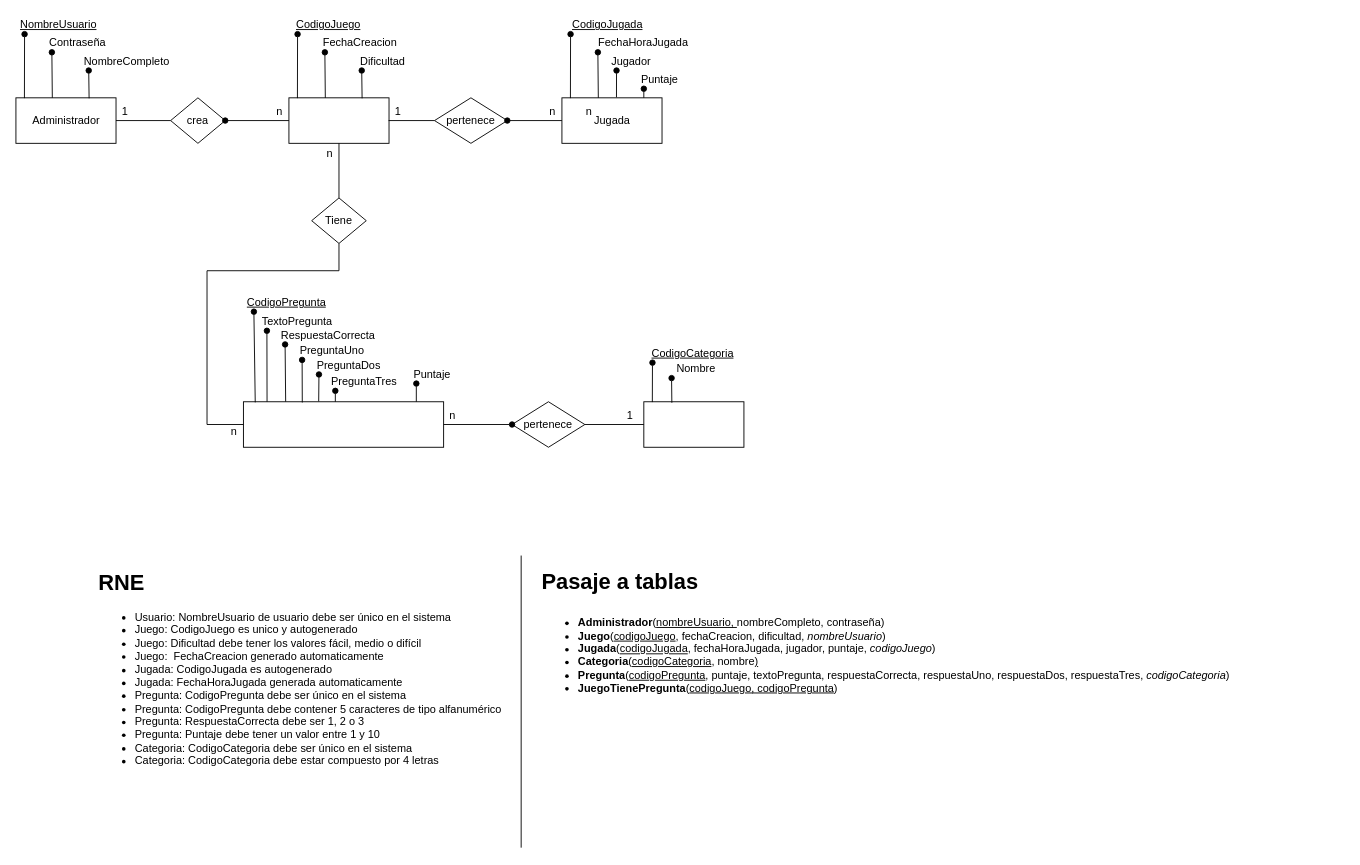
Image size: 1360x865. Some labels were removed from this diagram. Here are the shapes that lost their labels. From the top down, the centre of each, then its label:
point 338,120: Juego
point 343,424: Pregunta
point 693,424: Categoria
